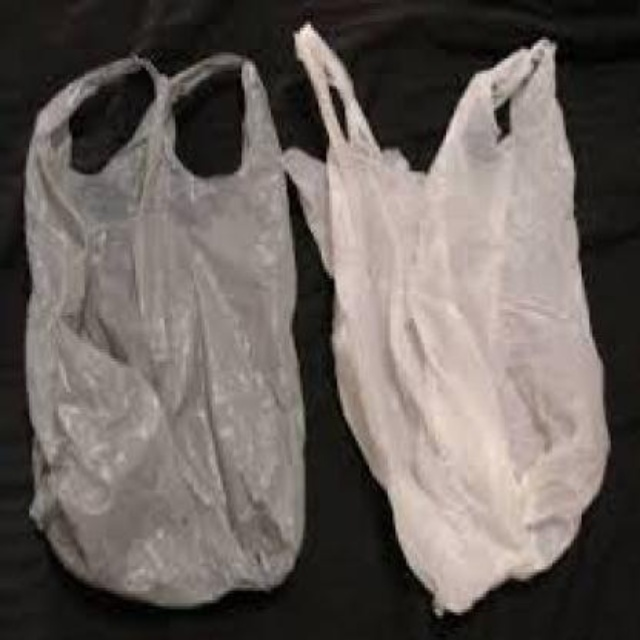trash: (283, 25, 608, 612), (25, 54, 303, 605)
